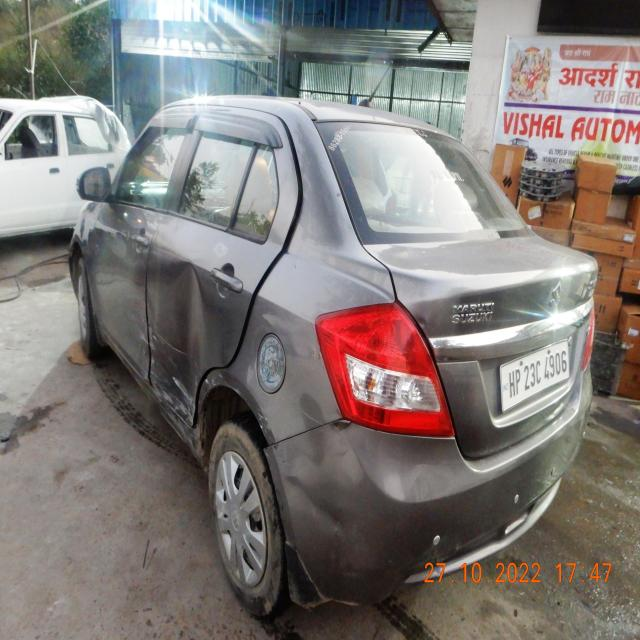damage: (149, 256, 201, 450), (285, 466, 358, 555), (387, 453, 454, 503), (139, 329, 149, 381), (257, 408, 272, 436), (205, 373, 223, 388), (312, 347, 322, 361)
